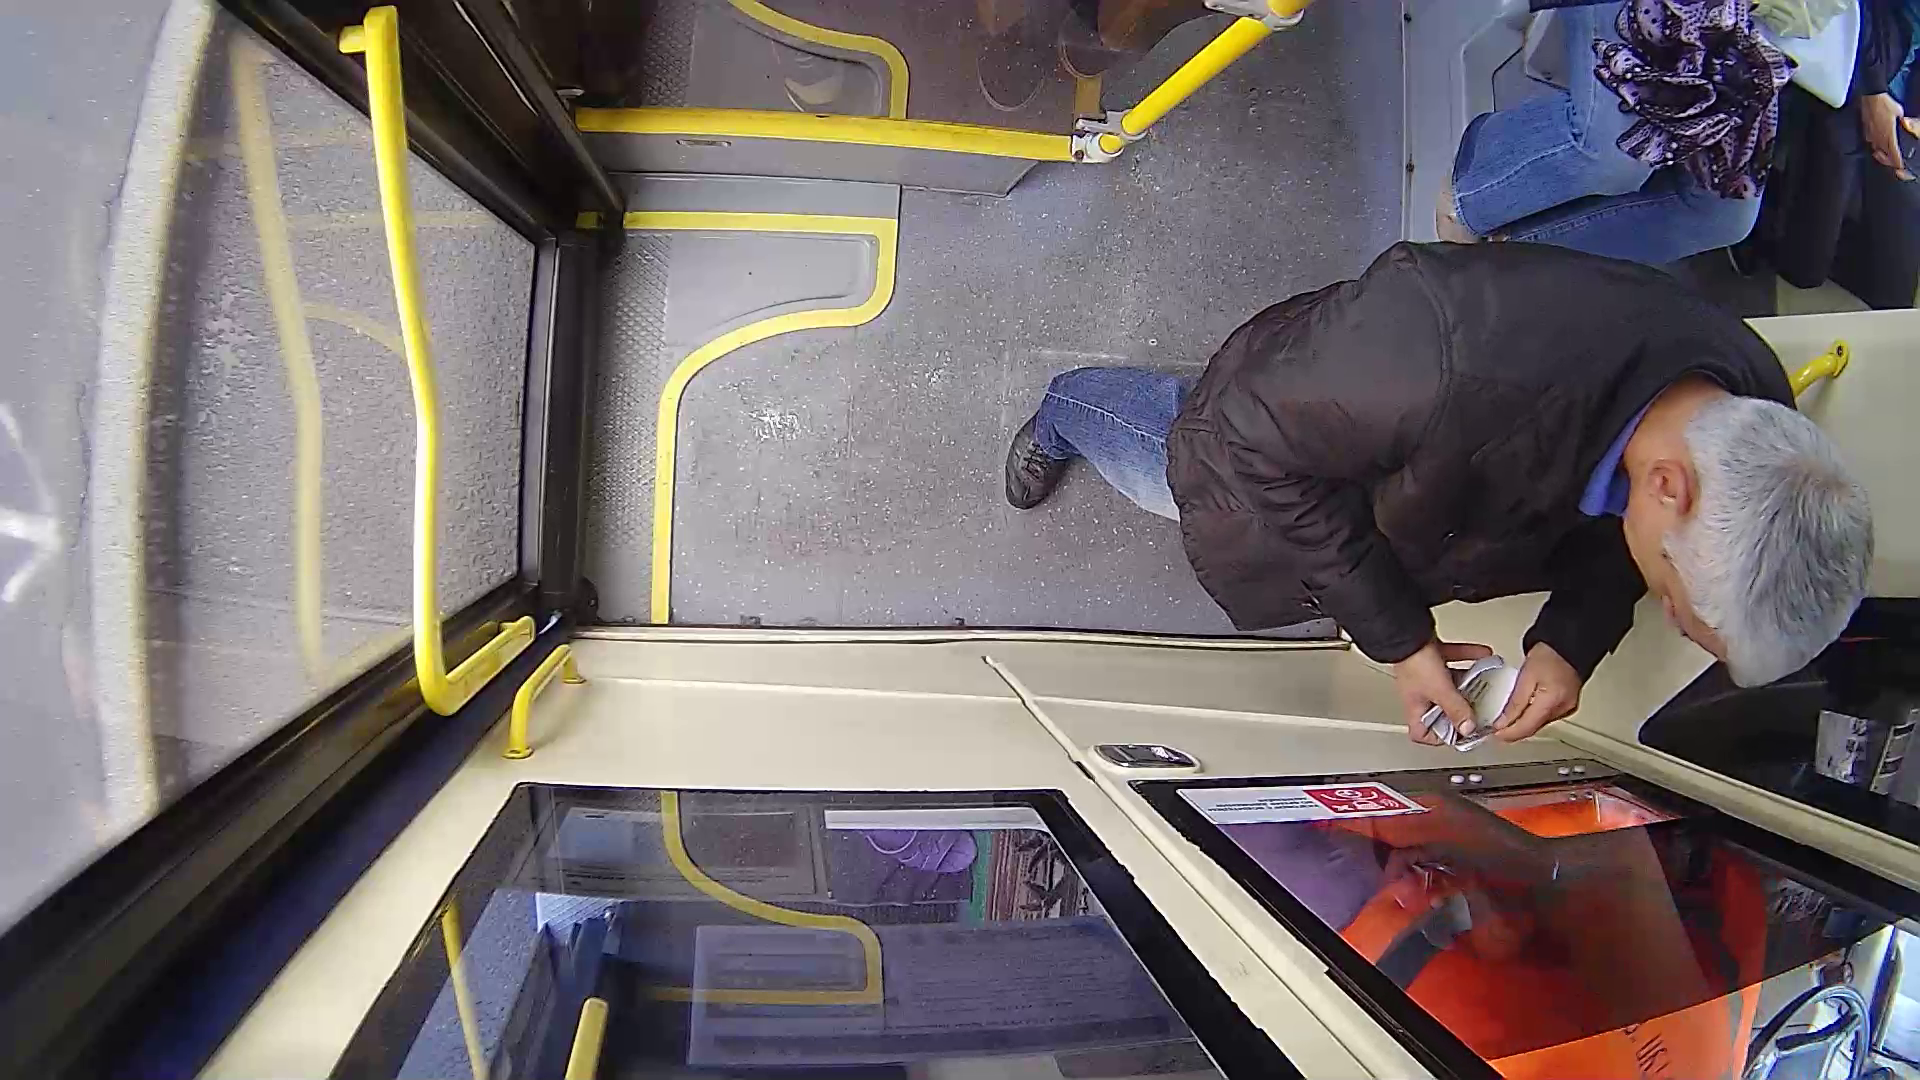person: (966, 154, 1902, 729)
